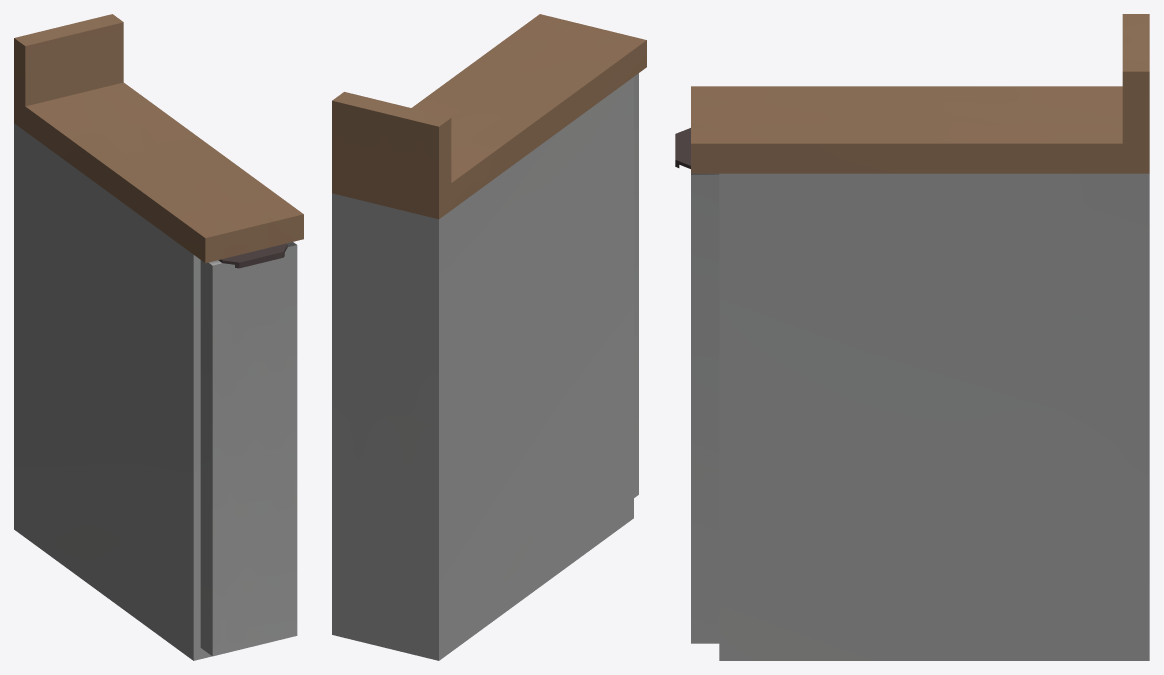
File: KitchenBlock_E.fbx
3 renders of one model, left to right at view 1: azimuth 30°, elevation 25°; view 2: azimuth 150°, elevation 25°; view 3: azimuth 270°, elevation 25°, orthographic. The views are drawn at different scales.
Parts seen in each view (by area): view 1: Kit_1_Block_E; view 2: Kit_1_Block_E; view 3: Kit_1_Block_E.
Boxes of the visible parts, x1,y1,x2,y2 form: Kit_1_Block_E: (14, 14, 303, 660); Kit_1_Block_E: (332, 14, 646, 660); Kit_1_Block_E: (675, 14, 1149, 660).
Bounding box in the file's own units: 19.69 × 93.97 × 68.51.
